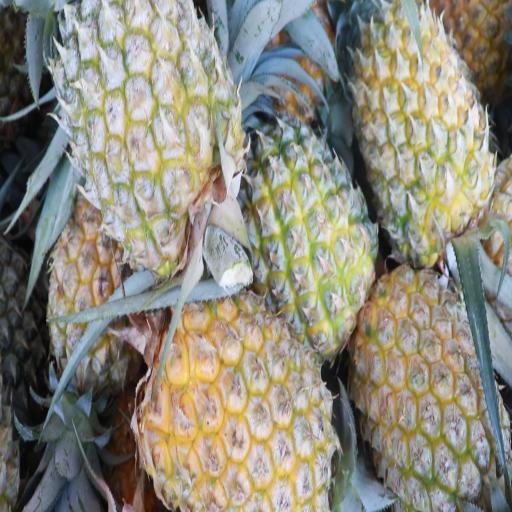------------------------------: (64, 0, 236, 261), (241, 125, 376, 342), (52, 201, 144, 387)
Pineapple - v8 v1: (144, 300, 339, 512), (355, 277, 506, 508), (357, 3, 493, 254)
